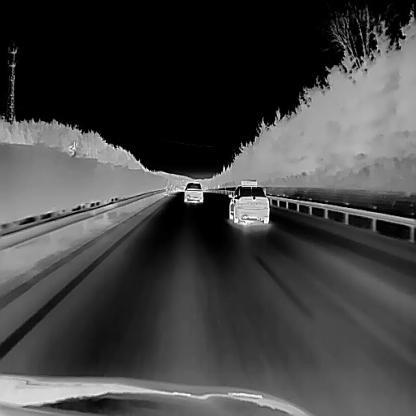car: (228, 179, 268, 225), (184, 182, 203, 203)
